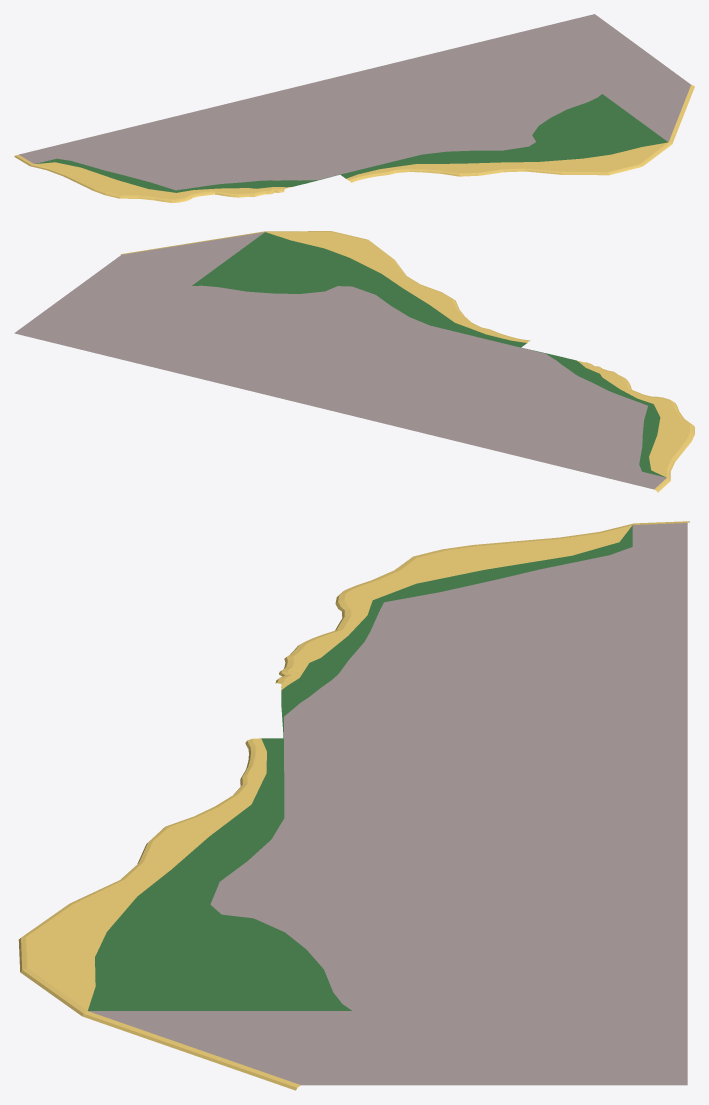
File: GroundBackground.fbx
3 renders of one model, top to bottom at view 1: azimuth 30°, elevation 25°; view 2: azimuth 150°, elevation 25°; view 3: azimuth 270°, elevation 25°, orthographic. The views are drawn at different scales.
Visible parts, largest first — view 1: GroundBackground; view 2: GroundBackground; view 3: GroundBackground.
Part boxes in pixels (x1,y1,x2,y2): GroundBackground: [14, 14, 694, 202]; GroundBackground: [14, 231, 694, 492]; GroundBackground: [18, 521, 689, 1090].
Bounding box in the file's own units: 171572 × 453 × 85650.
